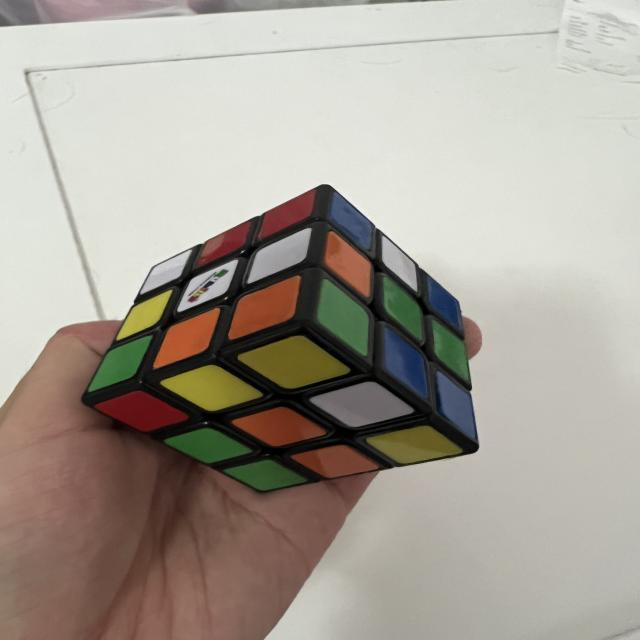blue: (362, 324, 447, 401), (432, 366, 478, 448), (411, 274, 474, 333), (319, 191, 383, 249)
center: (230, 397, 328, 457), (366, 273, 438, 343), (167, 257, 248, 315)
green: (301, 278, 388, 358), (163, 411, 253, 481), (77, 333, 164, 395), (365, 273, 438, 343), (416, 316, 487, 386), (221, 452, 308, 499)
orange: (217, 274, 313, 343), (141, 306, 232, 372), (230, 397, 328, 457), (311, 229, 387, 300), (290, 438, 380, 485)
red: (92, 376, 191, 447), (249, 188, 326, 241), (189, 220, 259, 268)
white: (309, 373, 414, 437), (167, 256, 249, 316), (237, 227, 322, 284), (369, 235, 429, 292), (132, 249, 200, 296)
yellow: (159, 346, 264, 431), (236, 324, 350, 401), (365, 419, 463, 471), (106, 288, 182, 343)
